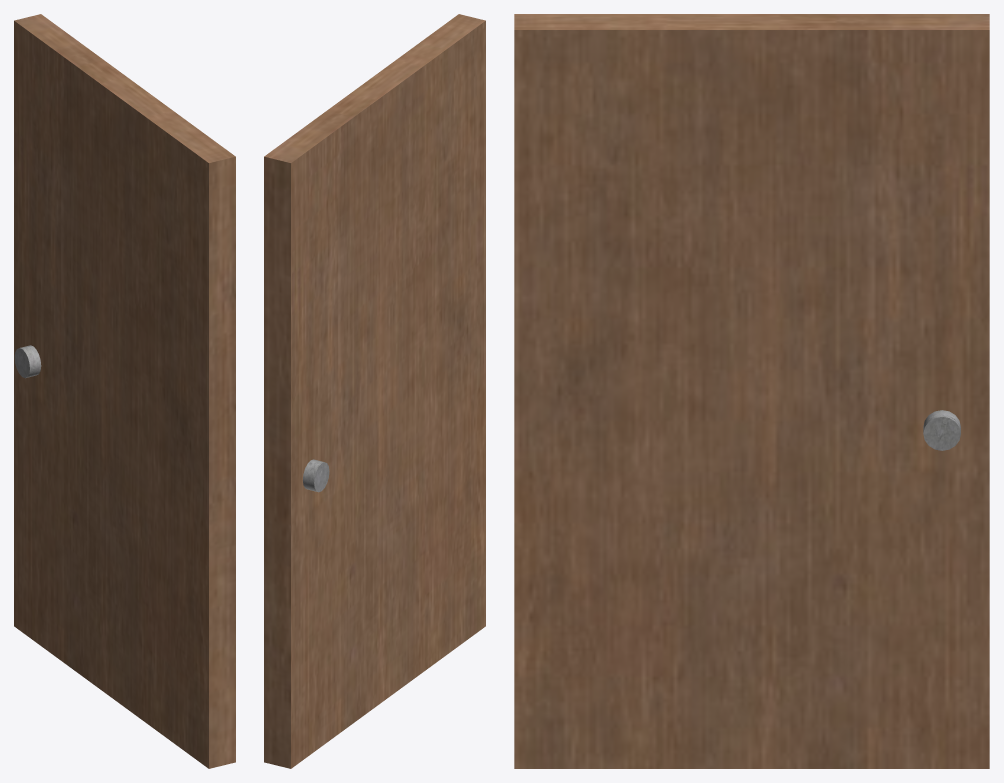
The model's file is door.glb.
3 renders of one model, left to right at view 1: azimuth 30°, elevation 25°; view 2: azimuth 150°, elevation 25°; view 3: azimuth 270°, elevation 25°, orthographic. The views are drawn at different scales.
Visible parts, largest first — view 1: Cube.012; view 2: Cube.012; view 3: Cube.012.
Part boxes in pixels (left/top/right/bottom): Cube.012: left=14, top=14, right=235, bottom=768; Cube.012: left=264, top=14, right=485, bottom=768; Cube.012: left=514, top=14, right=989, bottom=768.
Bounding box in the file's own units: 0.22 × 2.57 × 1.5.
Materials: 2 (2 with a texture image).
